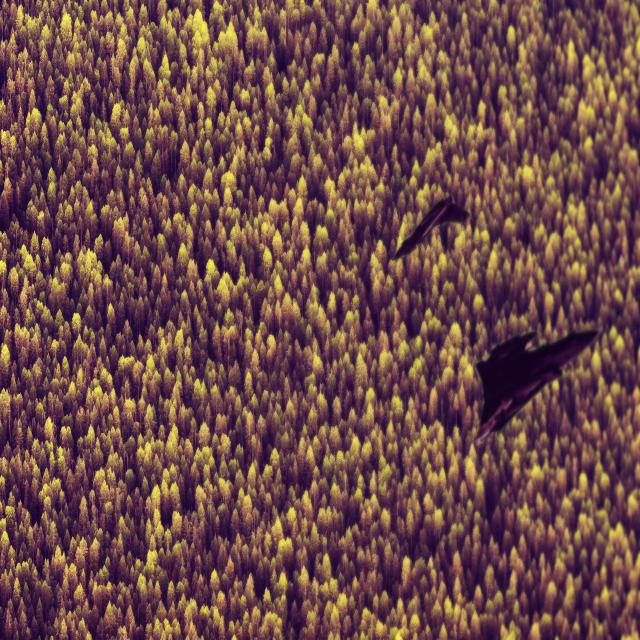airplane: (473, 326, 601, 446), (393, 194, 470, 260)
